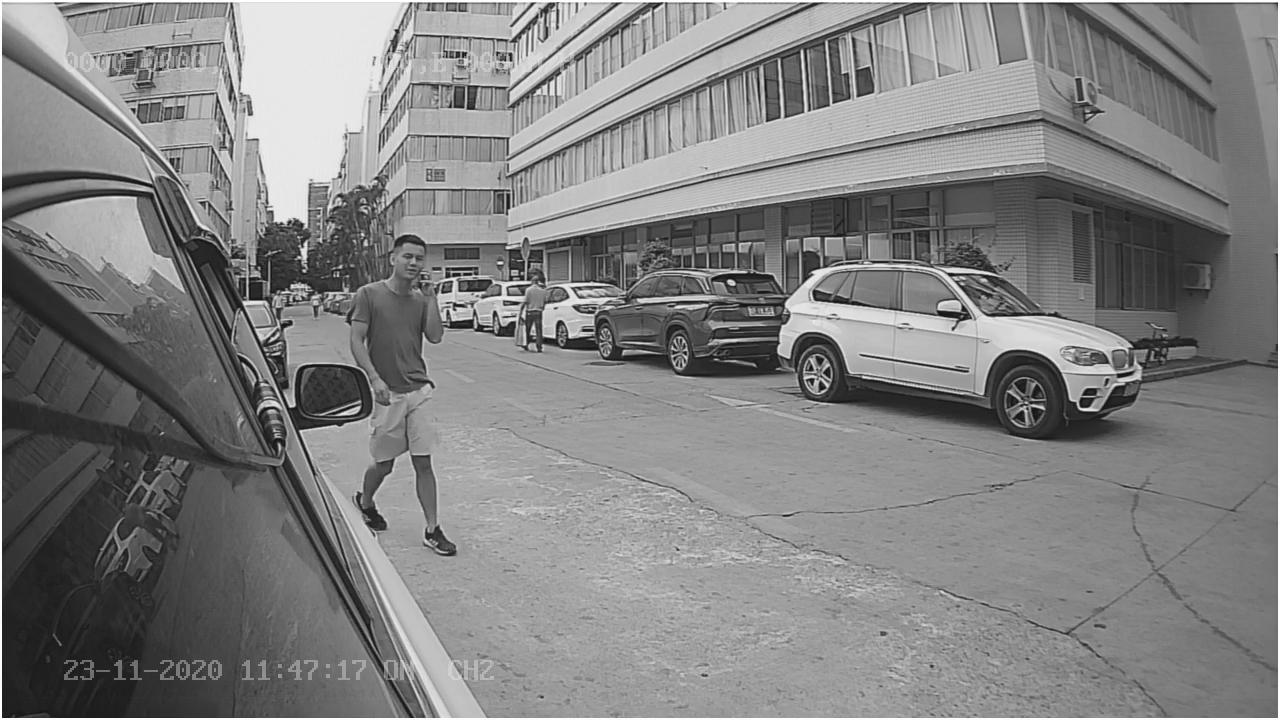person: (344, 227, 455, 362)
